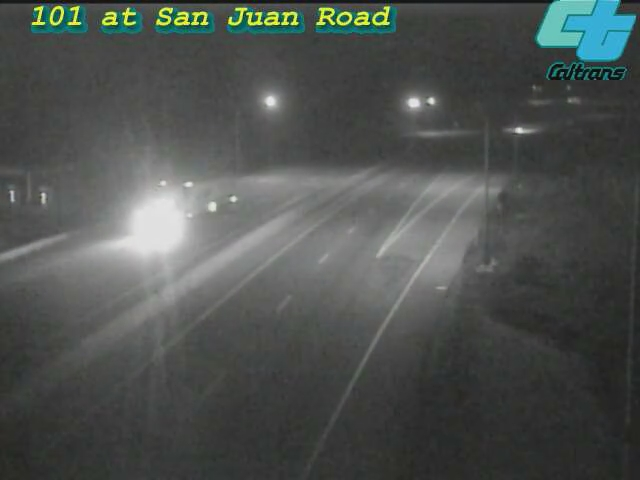vehicle: (138, 166, 218, 246), (497, 106, 547, 156)
